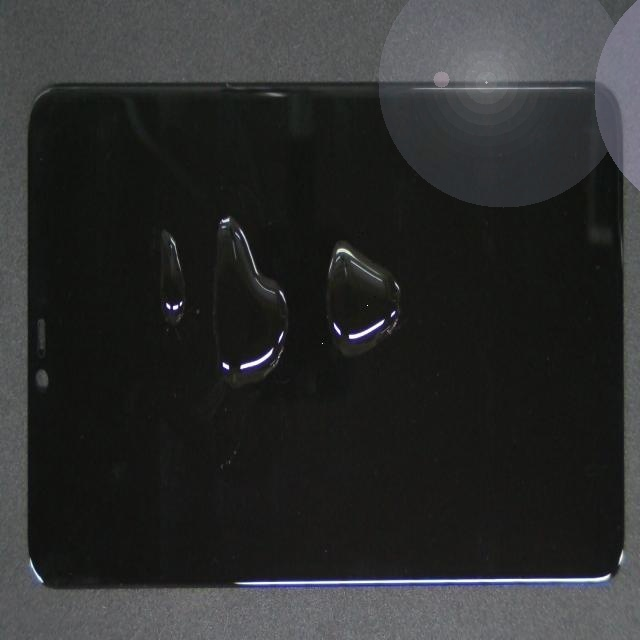oil: (185, 86, 502, 365), (62, 142, 241, 479), (126, 95, 330, 320)
